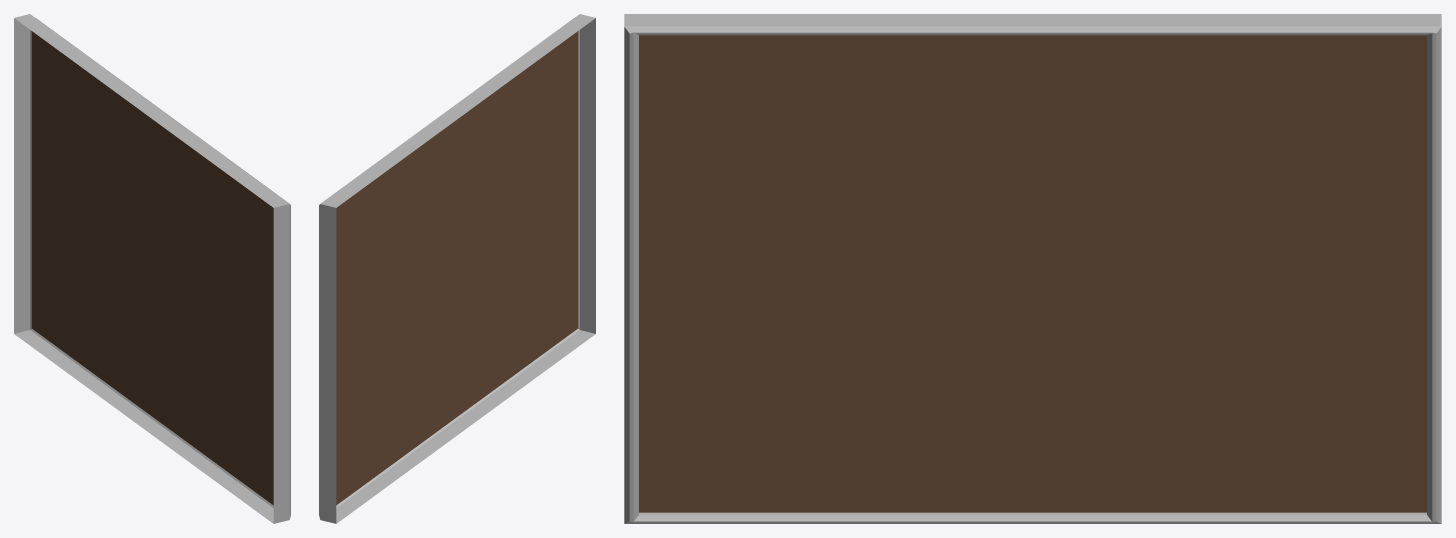
Rendered from pinboard.glb.
The picture shows the model from 3 angles, left to right: view 1: azimuth 30°, elevation 25°; view 2: azimuth 150°, elevation 25°; view 3: azimuth 270°, elevation 25°; orthographic projection. The views are drawn at different scales.
Parts seen in each view (by area): view 1: Pinboard1; view 2: Pinboard1; view 3: Pinboard1.
Part boxes in pixels (bbox=[...]): Pinboard1: bbox=[14, 14, 290, 523]; Pinboard1: bbox=[319, 14, 595, 523]; Pinboard1: bbox=[624, 14, 1441, 523].
Size of the model in its own units: 0.1 by 1.59 by 2.36.
1 material, 1 textured.
